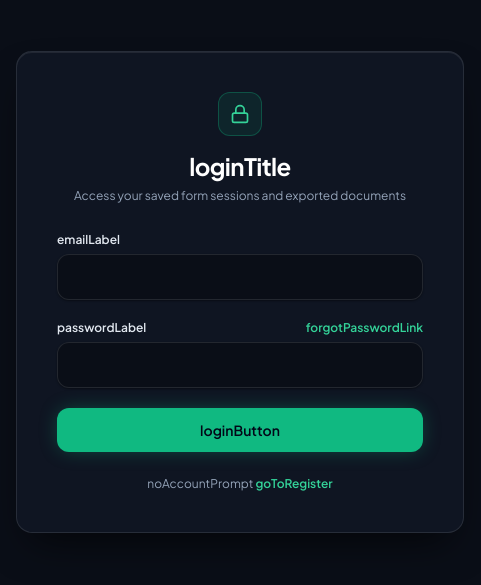
Test case: LoginForm › shows a generic error message on invalid credentials
Type "user@example.com" into the field labelled "emailLabel" at (240, 277), box [57,254,423,300]
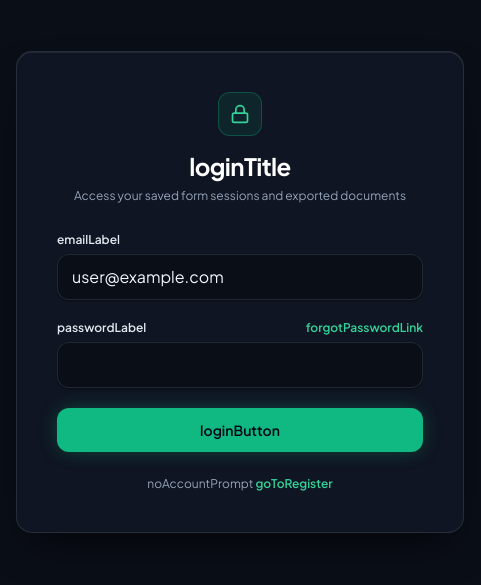
Type "wrong-password" into the password field labelled "passwordLabel" at (240, 365), box [57,342,423,388]
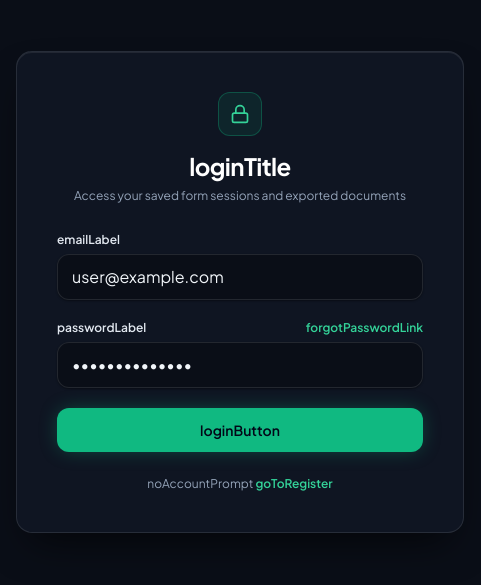
Click the button "loginButton" at (240, 430), box [57,408,423,452]
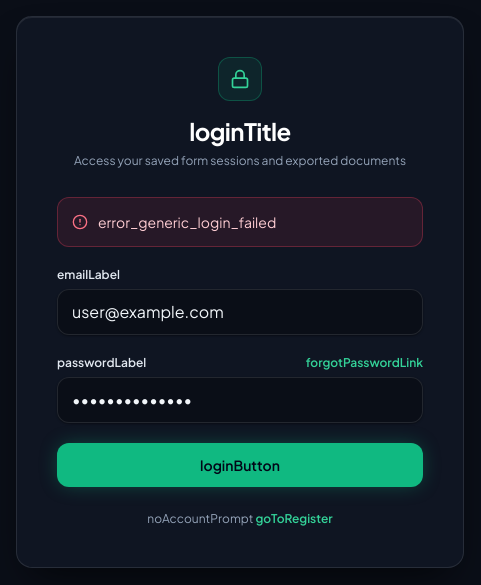
Now the text "error_generic_login_failed" is shown, box [98,212,276,232]
